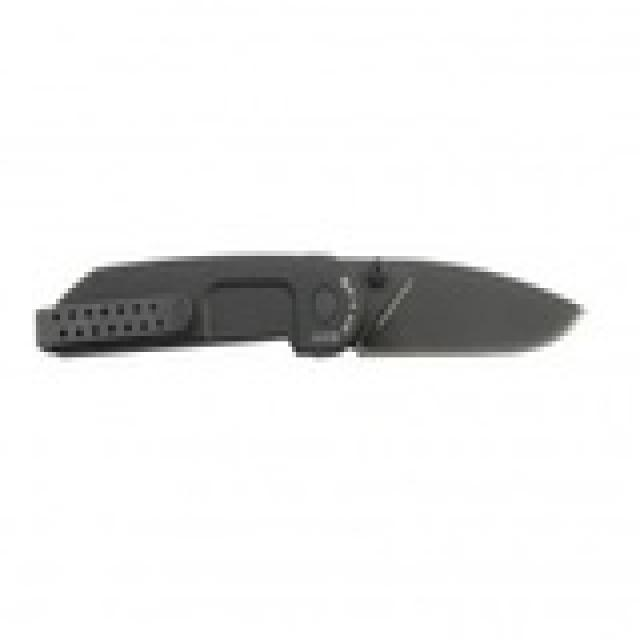Knife: (19, 250, 591, 378)
